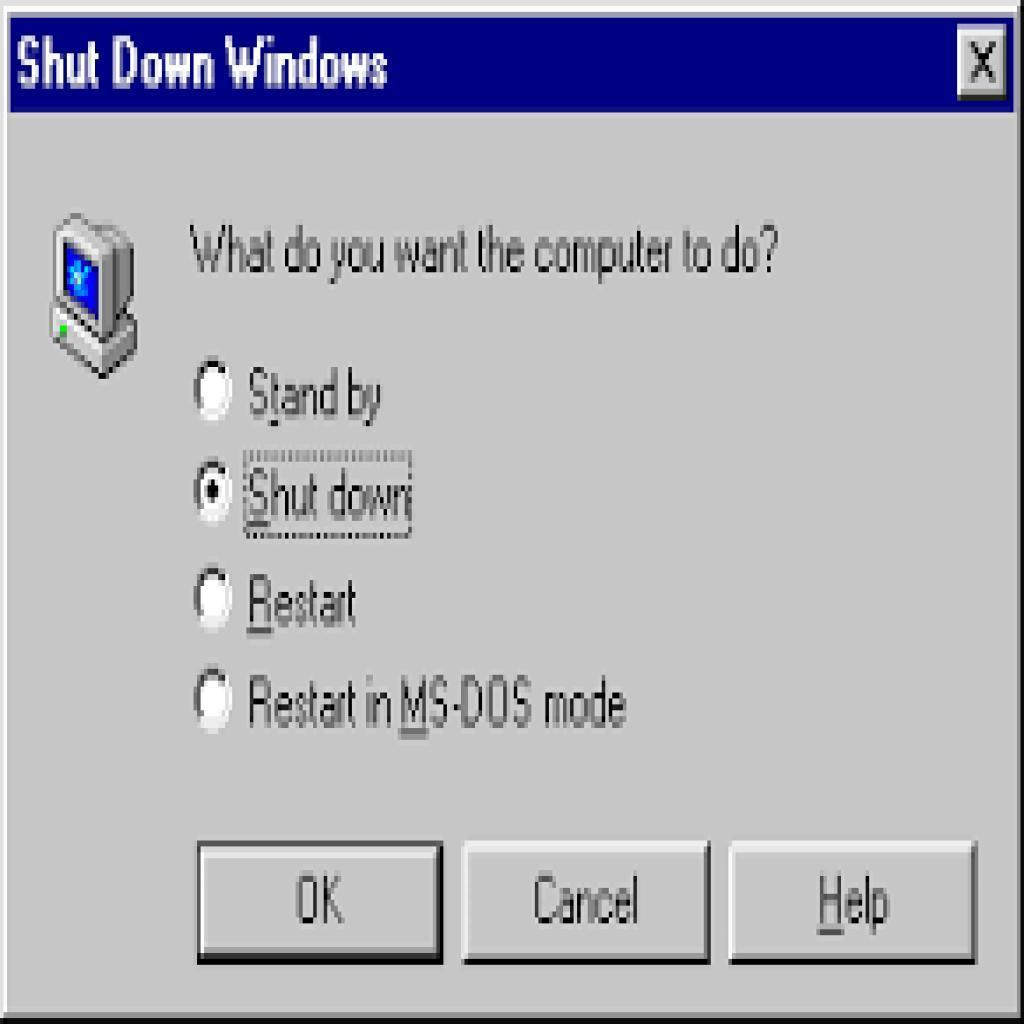button: (728, 841, 981, 967), (462, 841, 714, 967), (199, 842, 446, 970)
icon: (966, 38, 1000, 85)
label: (248, 667, 631, 742), (244, 458, 410, 538), (242, 572, 363, 643), (252, 365, 382, 431)
radio: (194, 562, 237, 637), (195, 666, 238, 740), (193, 458, 236, 527), (194, 353, 234, 424)
